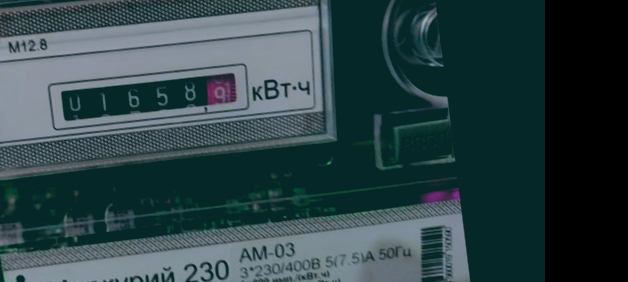0: (67, 91, 82, 114)
1: (97, 90, 110, 113)
5: (154, 84, 170, 108)
6: (125, 86, 141, 110)
8: (181, 79, 198, 103)
9: (210, 85, 227, 108)
screen: (41, 54, 259, 140)
